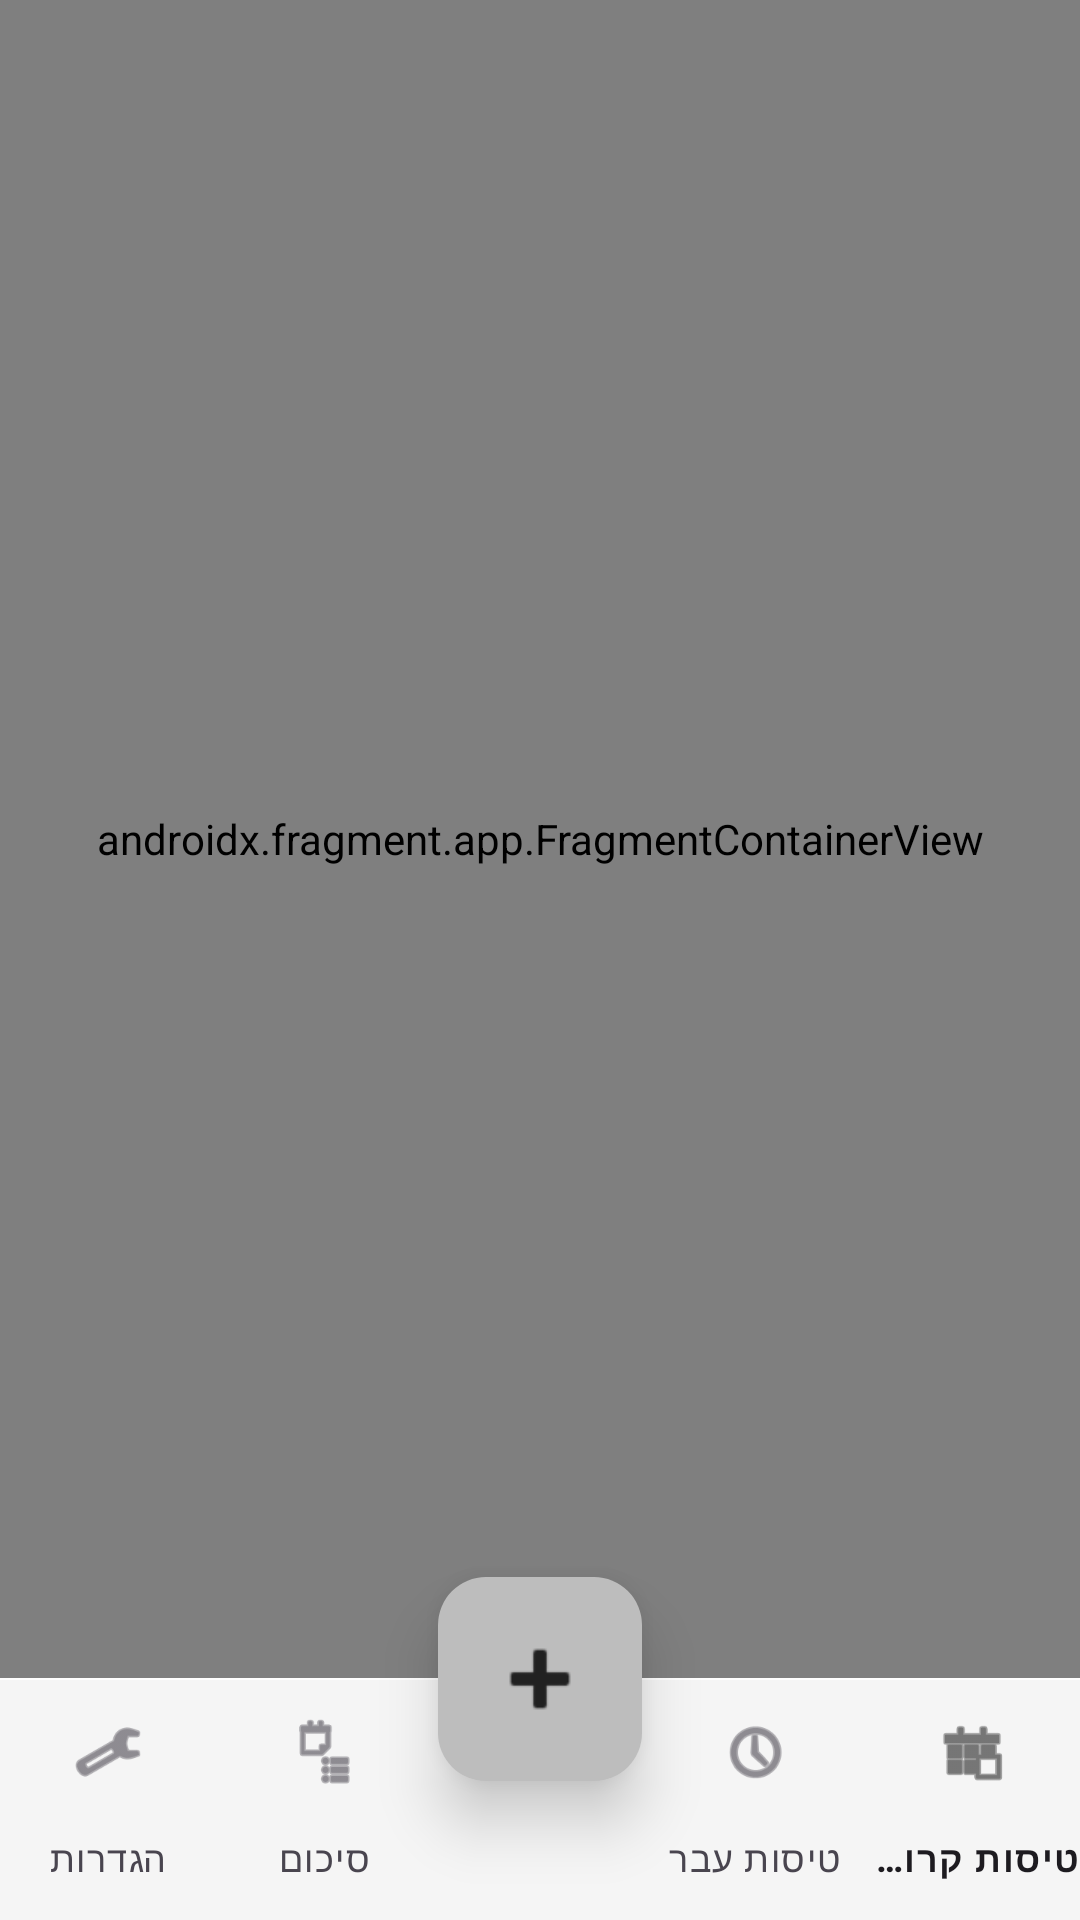

Screen size 1080*1920. Icon name, then its center in pixels as (x=x, y=y):
הוספת טיסה: (x=540, y=1679)
